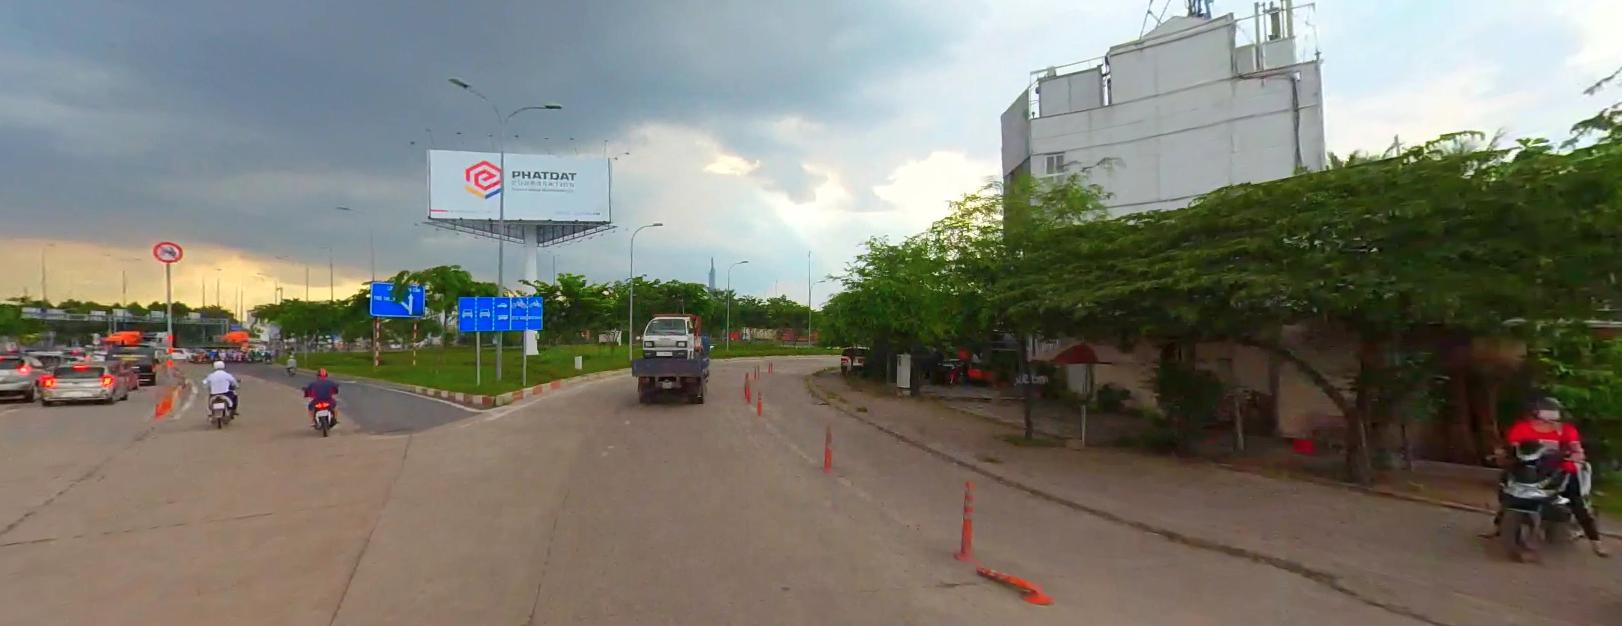Cam con lai: (148, 239, 182, 263)
